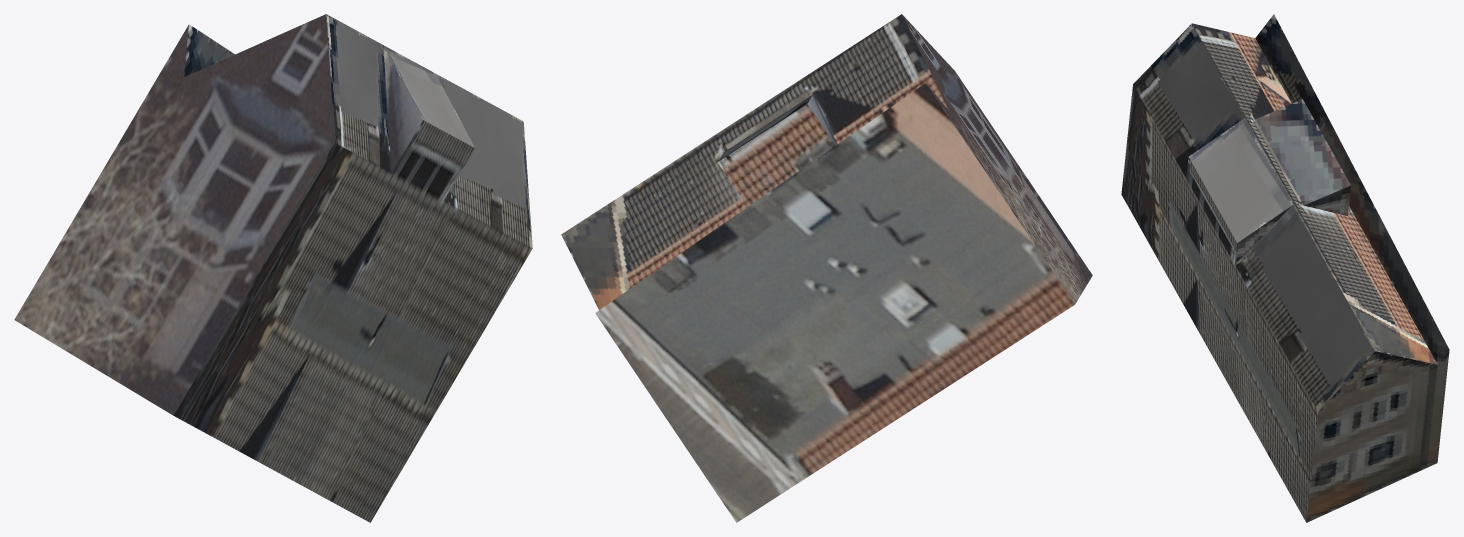
3 renders of one model, left to right at view 1: azimuth 30°, elevation 25°; view 2: azimuth 150°, elevation 25°; view 3: azimuth 270°, elevation 25°, orthographic. The views are drawn at different scales.
Visible parts, largest first — view 1: BAG_0599100000656924 (×3); view 2: BAG_0599100000656924 (×2); view 3: BAG_0599100000656924 (×4).
Boxes of the visible parts, x1,y1,x2,y2 form: BAG_0599100000656924 (×3): [14, 14, 532, 522]; BAG_0599100000656924 (×2): [561, 14, 1092, 522]; BAG_0599100000656924 (×4): [1121, 14, 1449, 522].
Bounding box in the file's own units: 15.82 × 15.34 × 10.02.
4 materials, 4 textured.
